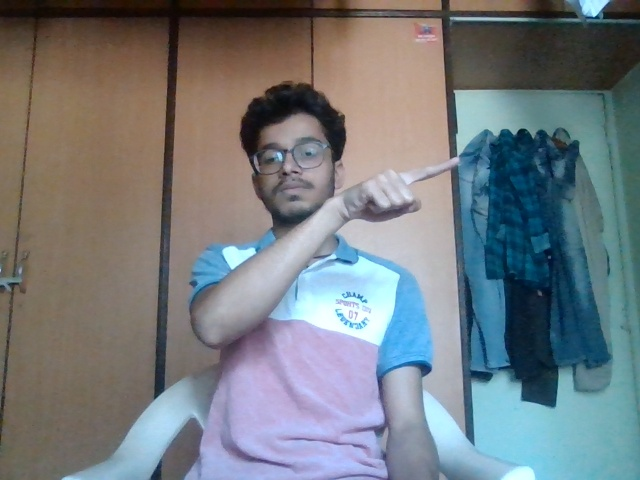you: (320, 154, 477, 237)
